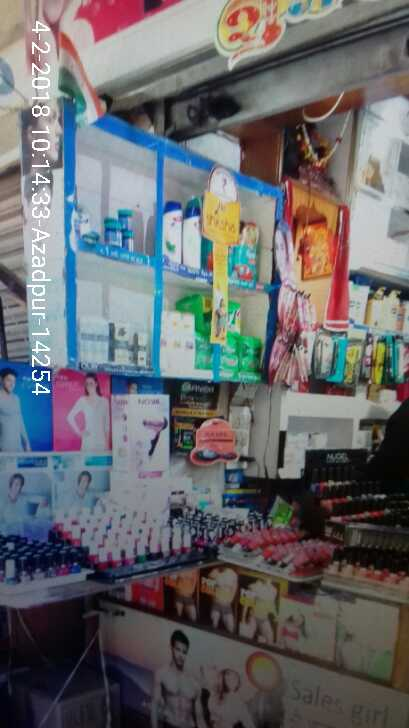vicks: (104, 203, 134, 250)
